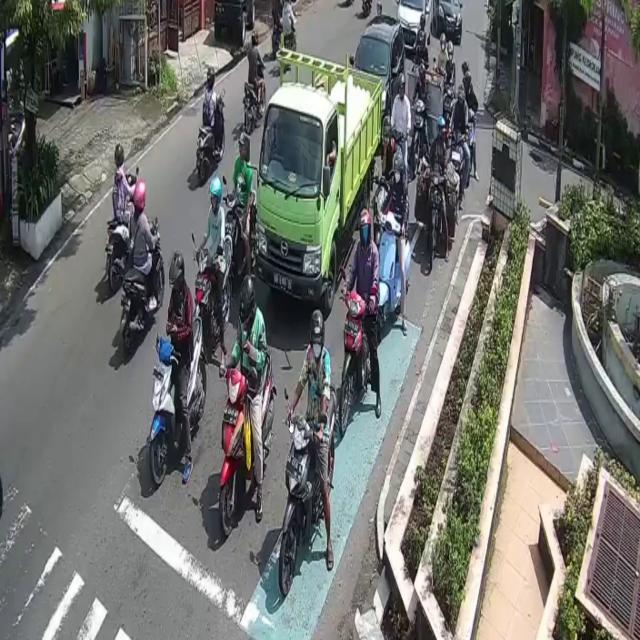bus: (279, 383, 339, 596), (148, 313, 208, 488), (221, 349, 276, 537), (121, 219, 165, 357), (339, 294, 380, 434), (190, 234, 233, 344), (106, 172, 145, 292), (376, 210, 409, 334), (221, 190, 256, 278), (194, 94, 226, 186), (428, 165, 447, 264), (244, 56, 266, 132), (412, 101, 430, 176), (448, 133, 467, 195)
motorcycle: (351, 14, 406, 142), (399, 0, 435, 57), (432, 0, 460, 40)
truck: (256, 45, 384, 313)
